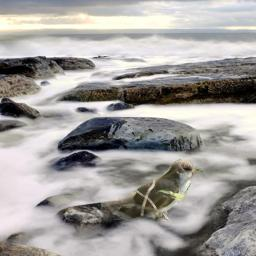Cuckoo: (101, 159, 203, 221)
